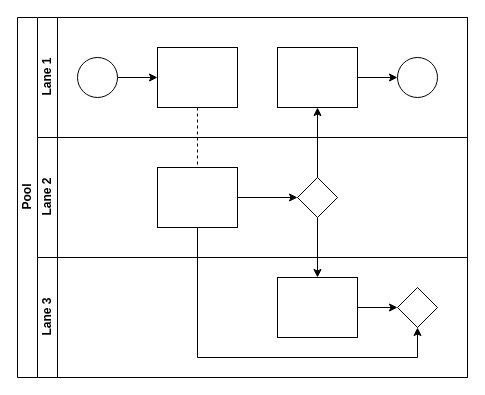
Some shapes in this 485 by 395 pixel diagram are drawn without their labels. Here are the shapes that lost their labels. From the top down, the box of each, then its label:
(76, 56, 118, 98): start
(156, 46, 238, 108): user pay
